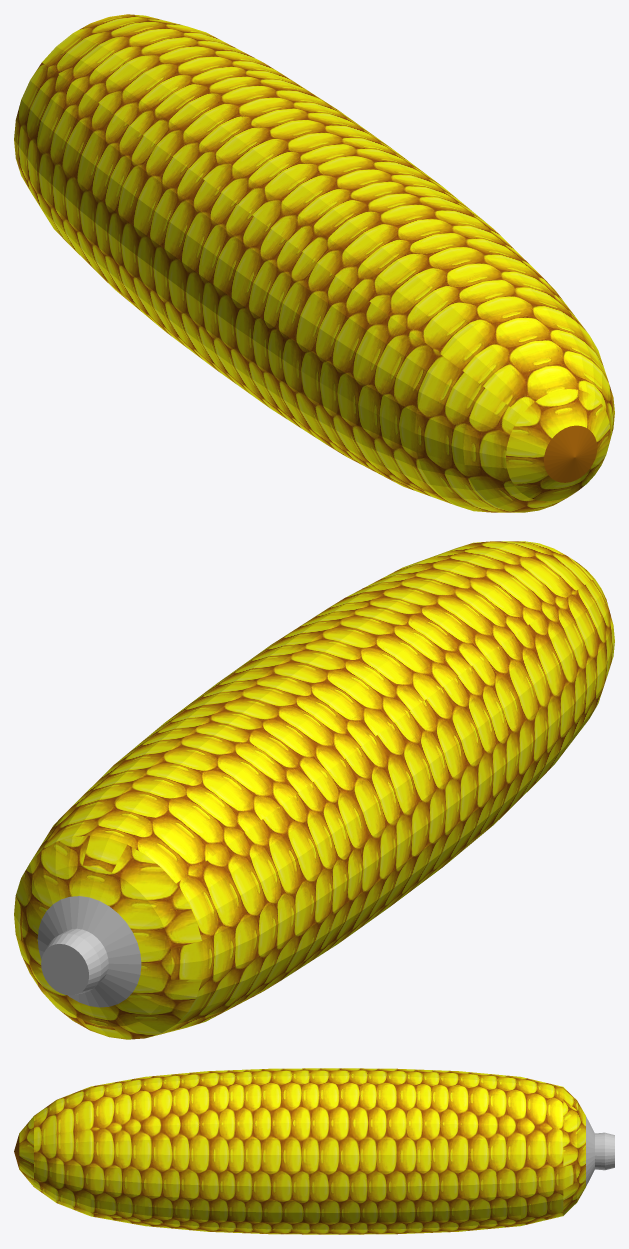
The model's file is corn.fbx.
3 renders of one model, top to bottom at view 1: azimuth 30°, elevation 25°; view 2: azimuth 150°, elevation 25°; view 3: azimuth 270°, elevation 25°, orthographic. The views are drawn at different scales.
Parts seen in each view (by area): view 1: Corn; view 2: Corn; view 3: Corn.
Boxes of the visible parts, <box> form: Corn: <box>14,14,614,512</box>; Corn: <box>14,541,614,1039</box>; Corn: <box>14,1068,614,1234</box>.
Size of the model in its own units: 352 by 352 by 1269.
